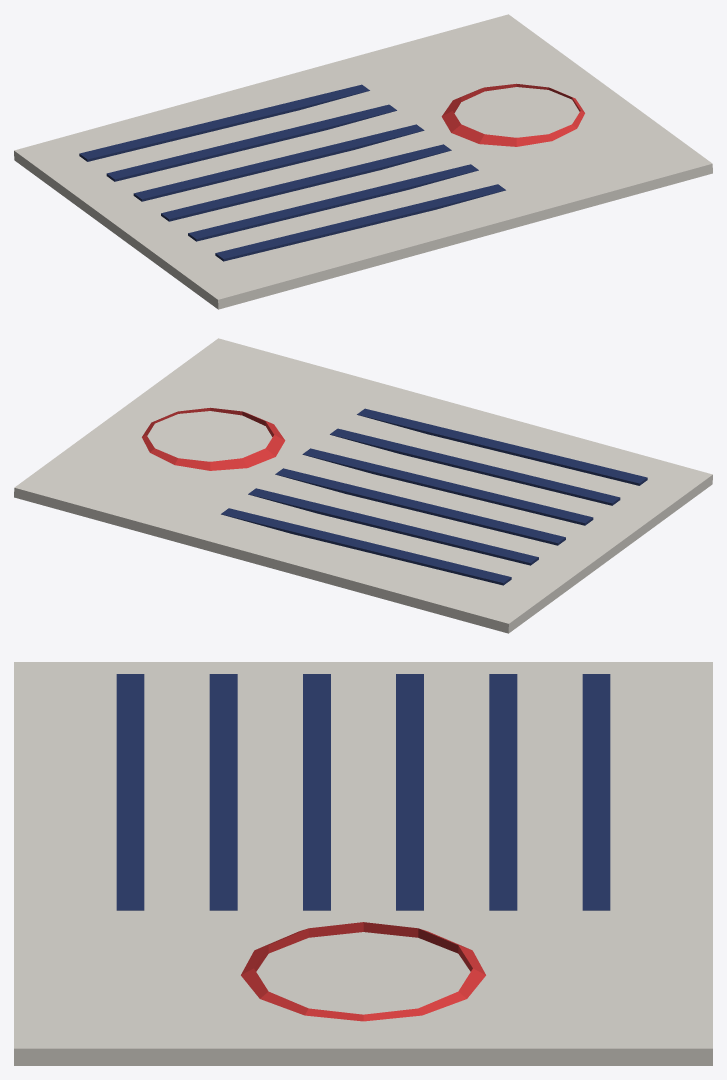
Rendered from watch_list.glb.
3 views of the same model, one above another, from view 1: azimuth 30°, elevation 25°; view 2: azimuth 150°, elevation 25°; view 3: azimuth 270°, elevation 25° (orthographic). The views are drawn at different scales.
Visible parts, largest first — view 1: paper_paper, lines_ink, clock_ink_red; view 2: paper_paper, lines_ink, clock_ink_red; view 3: paper_paper, lines_ink, clock_ink_red.
Boxes of the visible parts, x1,y1,x2,y2 form: paper_paper: (14, 14, 712, 309); lines_ink: (79, 84, 505, 261); clock_ink_red: (441, 83, 584, 146); paper_paper: (14, 338, 712, 633); lines_ink: (221, 408, 647, 585); clock_ink_red: (142, 407, 285, 470); paper_paper: (14, 662, 712, 1065); lines_ink: (116, 674, 610, 910); clock_ink_red: (241, 922, 485, 1021).
Bounding box in the file's own units: 0.21 × 0.0107 × 0.15.
